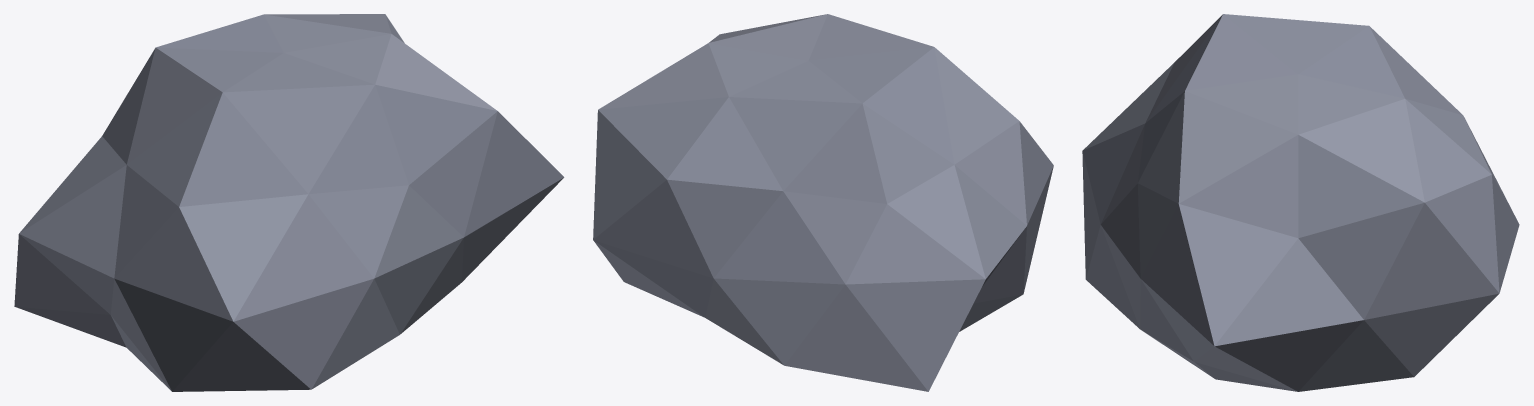
Rendered from rock.glb.
The picture shows the model from 3 angles, left to right: view 1: azimuth 30°, elevation 25°; view 2: azimuth 150°, elevation 25°; view 3: azimuth 270°, elevation 25°; orthographic projection. The views are drawn at different scales.
Visible parts, largest first — view 1: rock; view 2: rock; view 3: rock.
Boxes of the visible parts, <box> form: rock: <box>14,14,564,391</box>; rock: <box>593,14,1053,391</box>; rock: <box>1082,14,1519,391</box>.
Size of the model in its own units: 1.21 by 0.6636 by 0.97.
